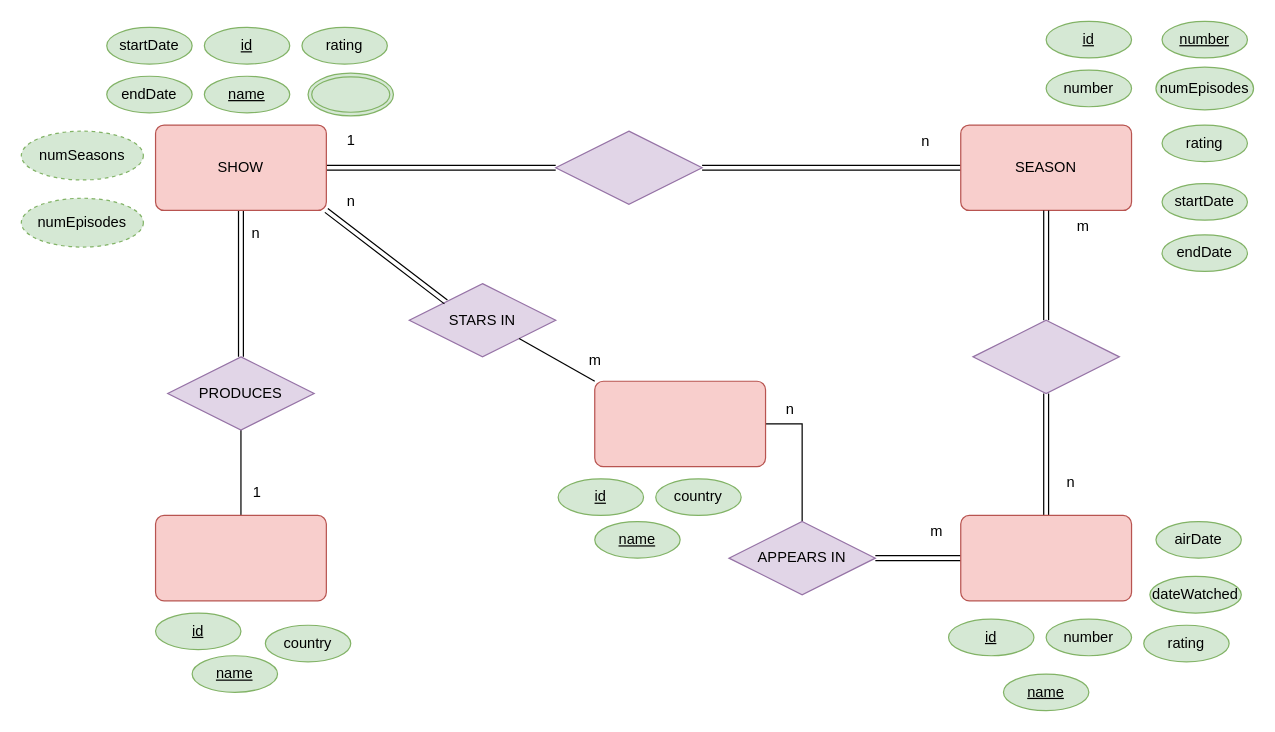
This 1275x732 diagram has some shape labels left out. Here are the shapes that lost their labels. From the top down, the centre of each, then its label:
point (350, 94): genres
point (628, 167): CONTAINS
point (1045, 356): HAS
point (680, 423): ACTOR
point (240, 557): STUDIO
point (1046, 557): EPISODE
